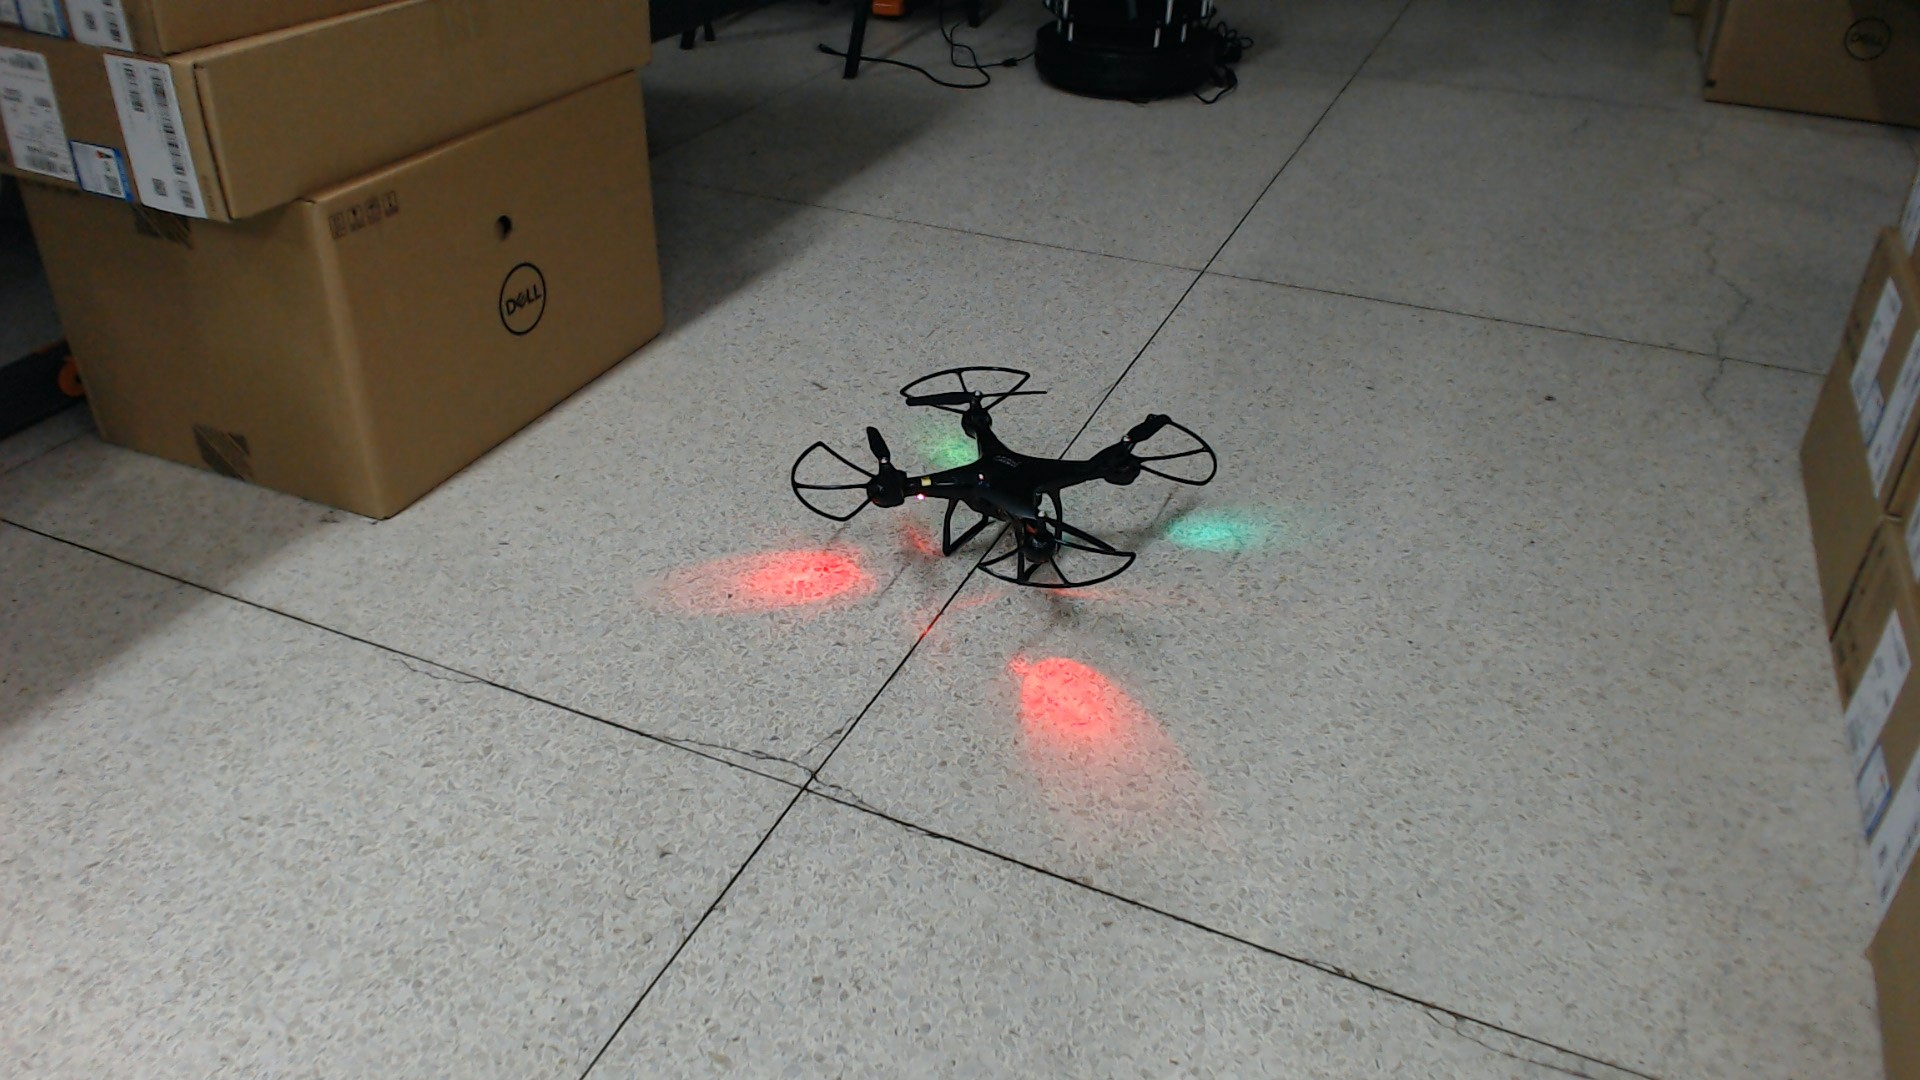drone: (782, 359, 1228, 597)
